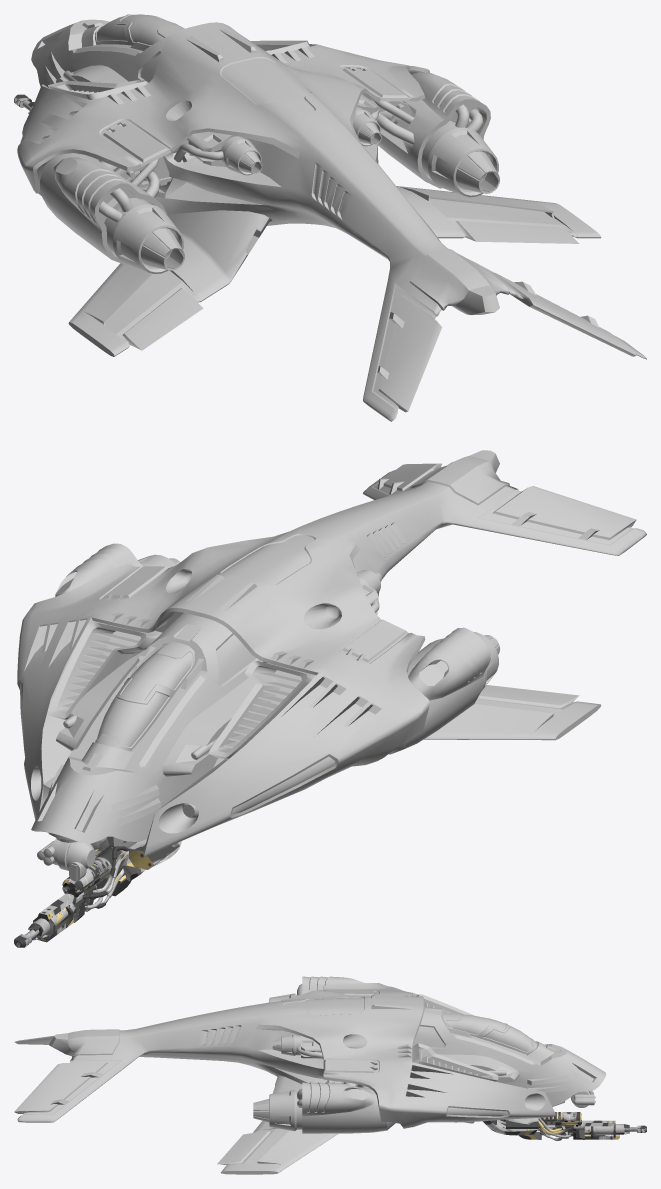
Rendered from Player.obj.
3 views of the same model, one above another, from view 1: azimuth 30°, elevation 25°; view 2: azimuth 150°, elevation 25°; view 3: azimuth 270°, elevation 25° (orthographic). The views are drawn at different scales.
Parts seen in each view (by area): view 1: Player; view 2: Player; view 3: Player.
Boxes of the visible parts, left/top/right/bottom form: Player: left=14, top=14, right=646, bottom=421; Player: left=14, top=450, right=646, bottom=947; Player: left=14, top=976, right=646, bottom=1174.
Bounding box in the file's own units: 2.45 × 1.06 × 4.4.
